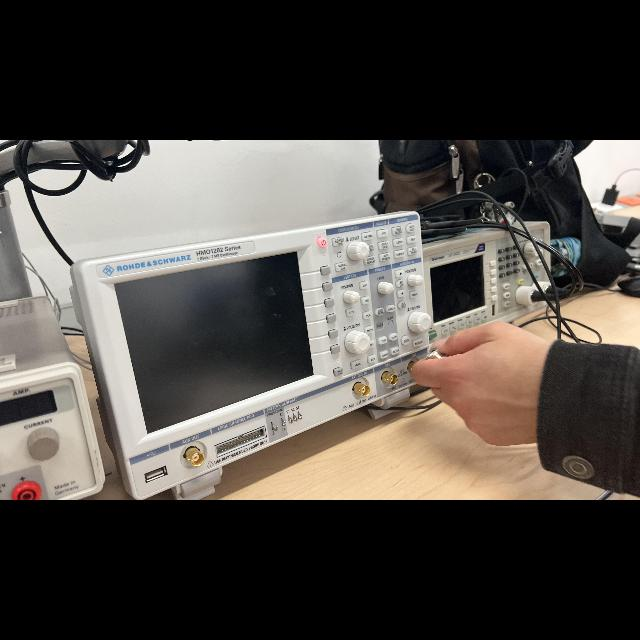Digital-Oscilloscope: (71, 212, 432, 499)
